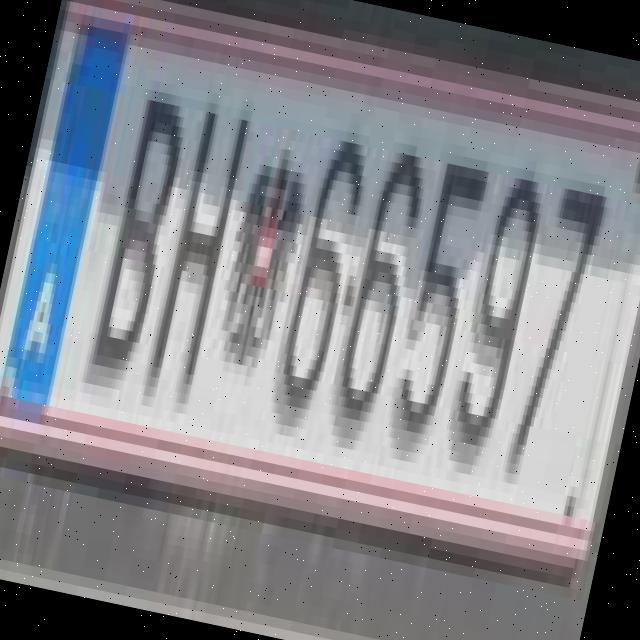Autriche: (0, 24, 129, 422)
EU: (0, 9, 640, 559)
